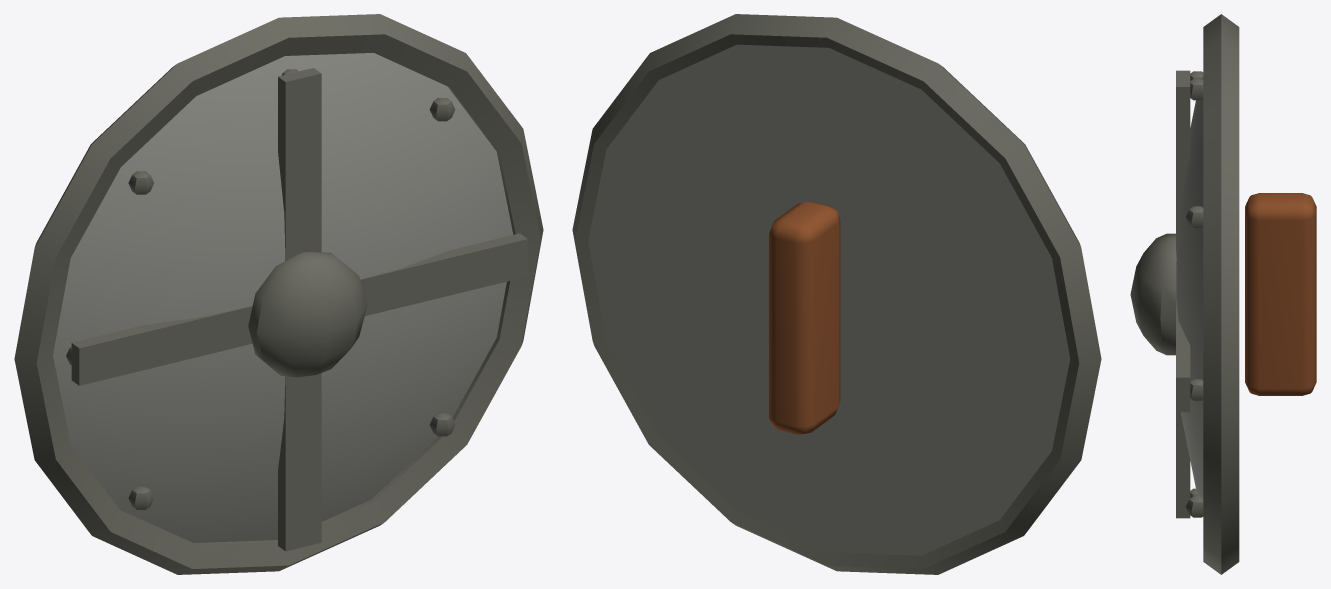
Rendered from StoneShield.fbx.
3 renders of one model, left to right at view 1: azimuth 30°, elevation 25°; view 2: azimuth 150°, elevation 25°; view 3: azimuth 270°, elevation 25°, orthographic. The views are drawn at different scales.
Parts seen in each view (by area): view 1: StoneShield; view 2: StoneShield; view 3: StoneShield.
Part boxes in pixels (left/top/right/bottom): StoneShield: left=14, top=14, right=543, bottom=574; StoneShield: left=572, top=14, right=1101, bottom=574; StoneShield: left=1130, top=14, right=1316, bottom=574.
Size of the model in its own units: 2.36 by 2.36 by 0.782.
1 material, 1 textured.
